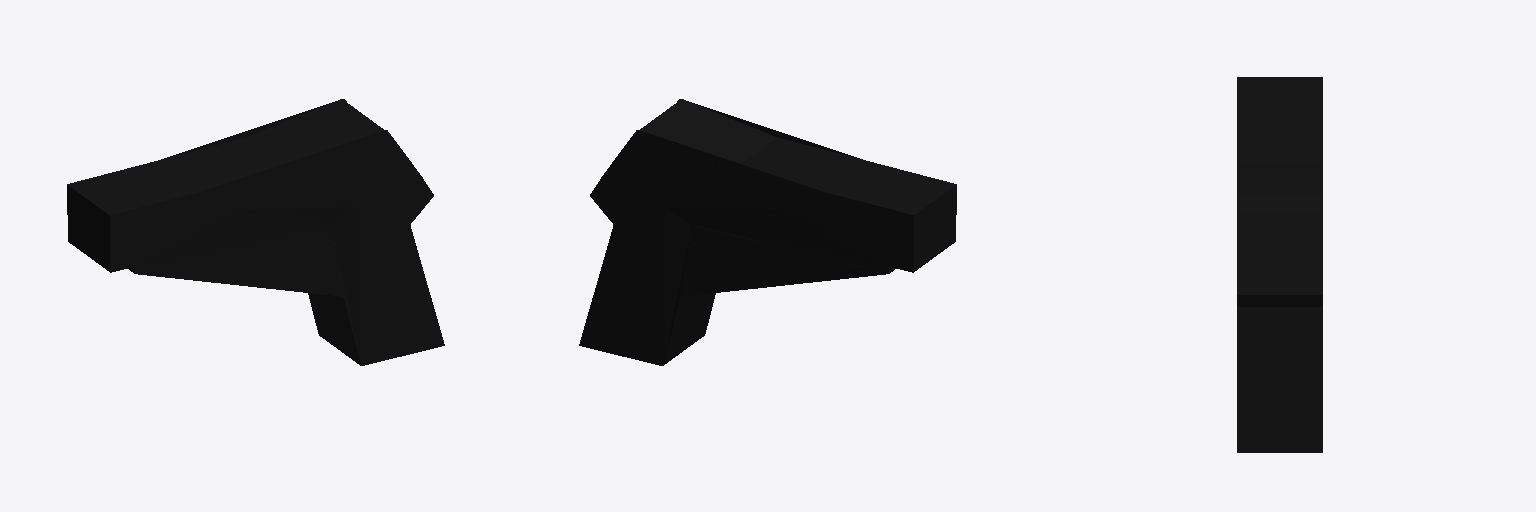
File: pistol.obj
3 views of the same model, side by side, from view 1: azimuth 30°, elevation 25°; view 2: azimuth 150°, elevation 25°; view 3: azimuth 270°, elevation 25° (orthographic).
Visible parts, largest first — view 1: Cube; view 2: Cube; view 3: Cube.
Boxes of the visible parts, x1=… form: Cube: x1=67, y1=99, x2=444, y2=365; Cube: x1=579, y1=99, x2=956, y2=365; Cube: x1=1237, y1=77, x2=1322, y2=452.
Bounding box in the file's own units: 3.79 × 2.49 × 0.8351.